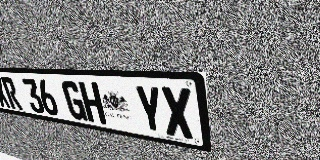3: (21, 78, 46, 114)
6: (35, 79, 60, 116)
G: (60, 80, 88, 121)
H: (78, 82, 107, 124)
R: (0, 77, 23, 110)
X: (160, 86, 195, 139), (0, 76, 12, 108)
Y: (133, 85, 166, 135)
